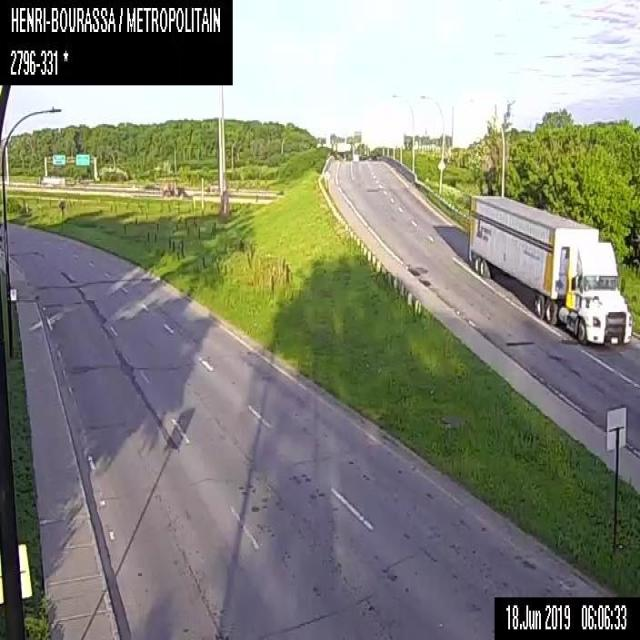vehicle: (466, 194, 633, 346)
